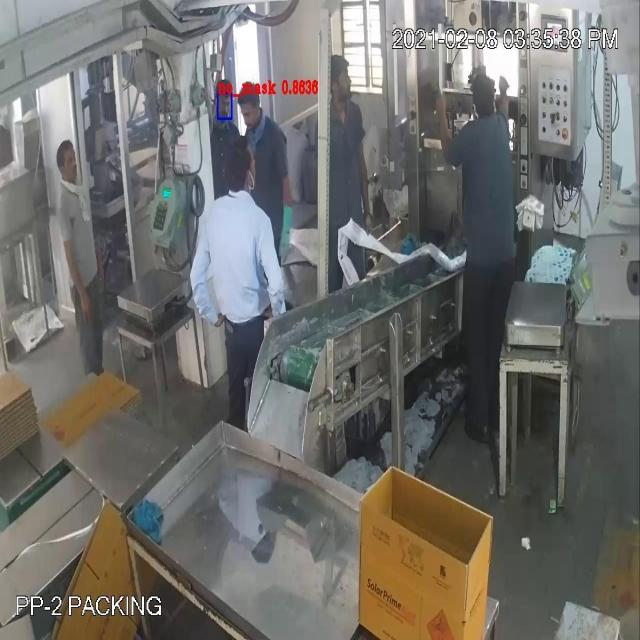No_Gloves: (20, 82, 504, 286)
